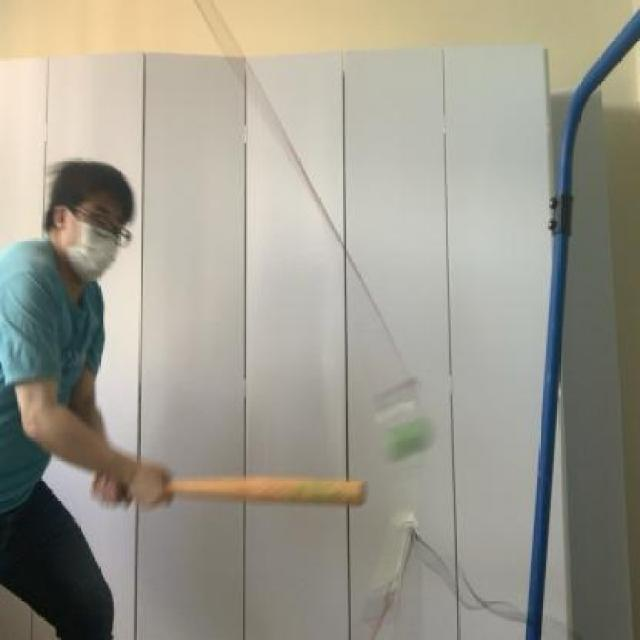baseball: (361, 405, 437, 466)
